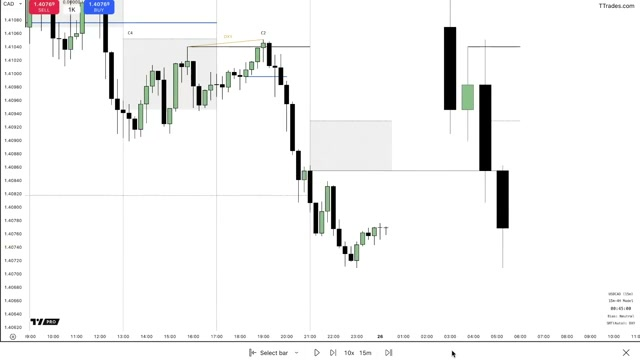bullish_reaction_zone: (358, 108, 461, 166)
